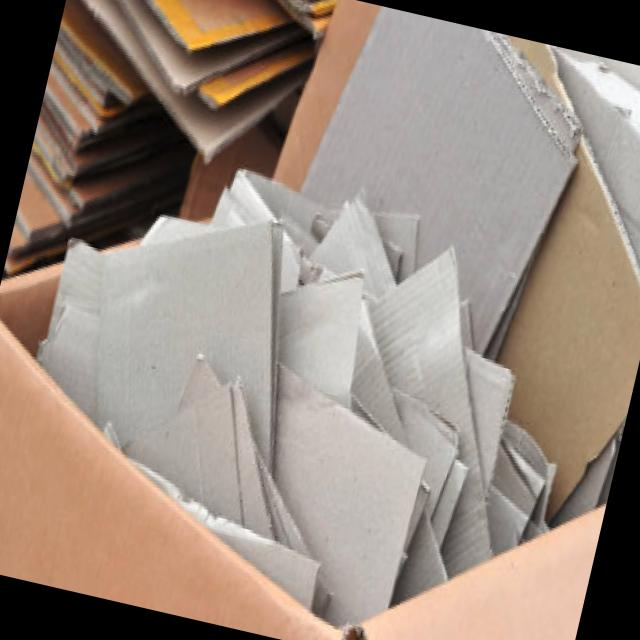Kardus: (0, 0, 640, 640), (0, 127, 614, 640)
